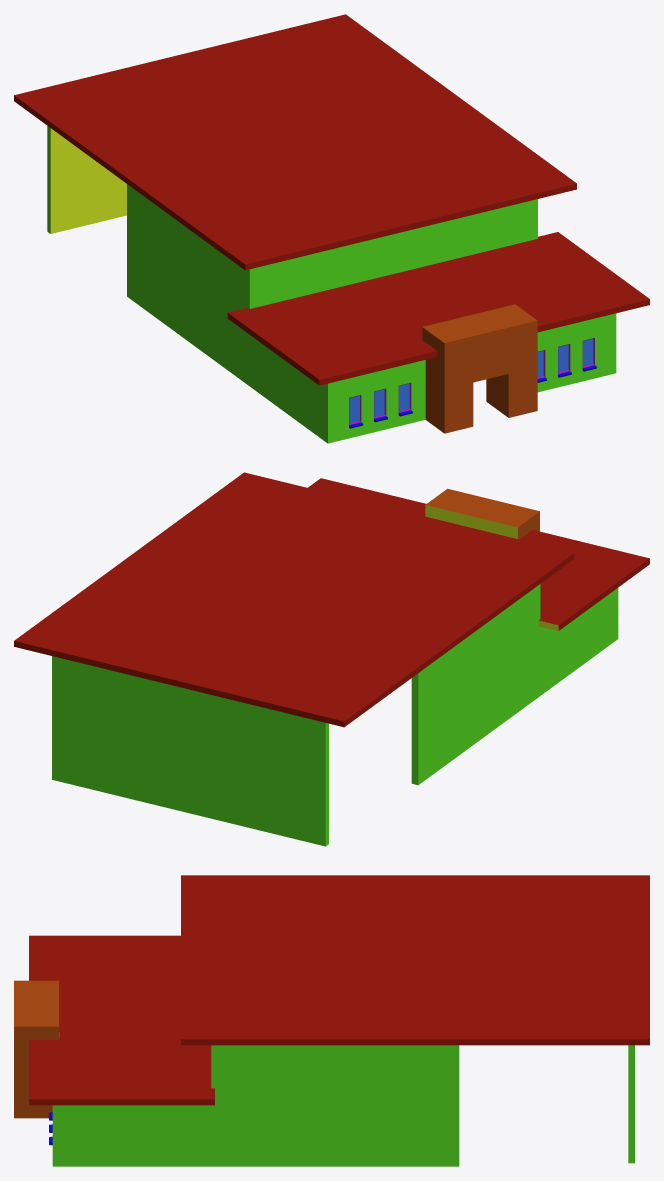
File: Mechanic Shop.fbx
3 renders of one model, top to bottom at view 1: azimuth 30°, elevation 25°; view 2: azimuth 150°, elevation 25°; view 3: azimuth 270°, elevation 25°, orthographic.
Parts seen in each view (by area): view 1: Main Building; view 2: Main Building; view 3: Main Building.
Boxes of the visible parts, left/top/right/bottom form: Main Building: left=14, top=14, right=649, bottom=443; Main Building: left=14, top=472, right=649, bottom=846; Main Building: left=14, top=875, right=649, bottom=1166.
Size of the model in its own units: 170 by 67.11 by 277.
